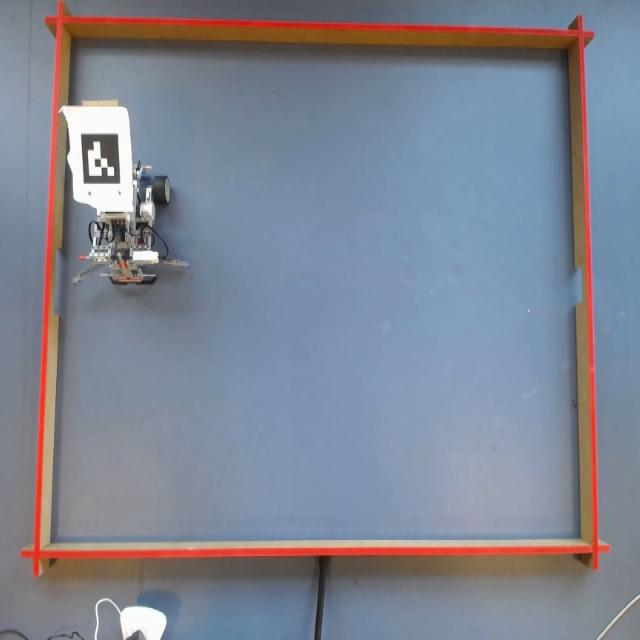ev3: (60, 105, 169, 283)
